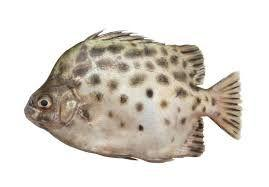Scat Fish: (24, 26, 246, 165)
